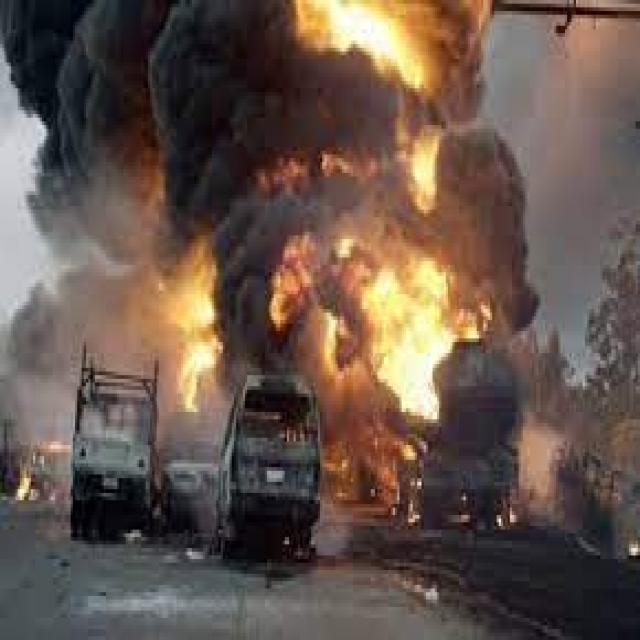fire: (316, 280, 446, 526)
smoke: (269, 4, 550, 353), (2, 3, 267, 360)
